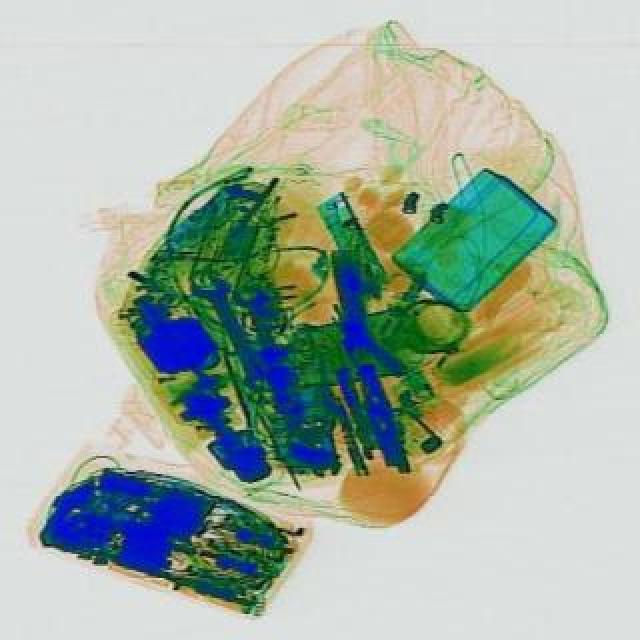scissors: (182, 266, 278, 398), (224, 278, 306, 418)
